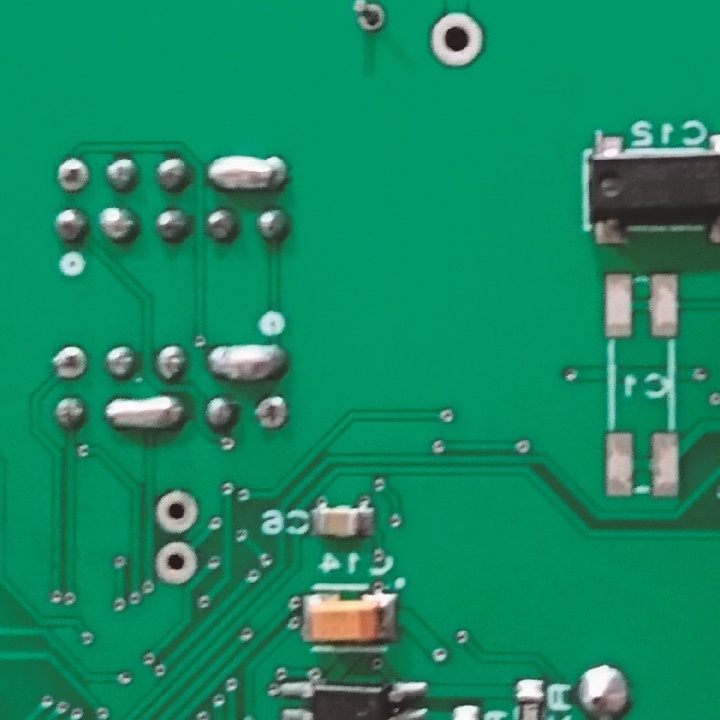F: (427, 12, 490, 75), (152, 489, 204, 539), (152, 540, 202, 589), (49, 342, 91, 383), (253, 392, 293, 433), (347, 1, 389, 39), (53, 155, 90, 194)
P: (203, 152, 296, 195), (204, 340, 290, 380), (104, 395, 185, 433)
